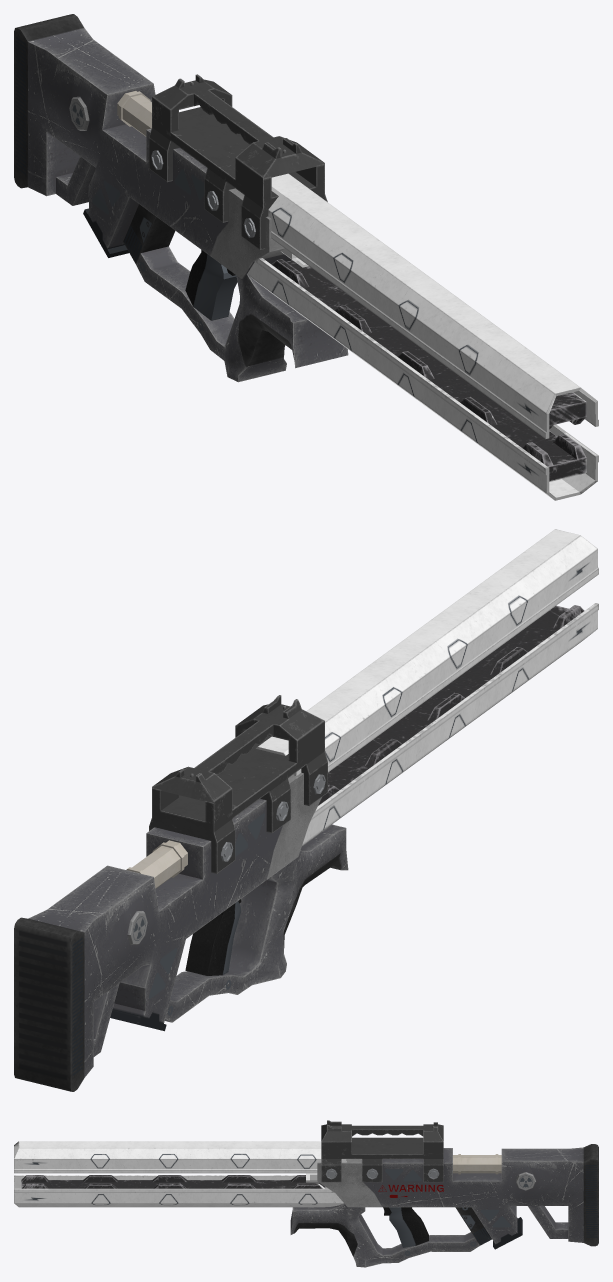
File: 5stageGun.fbx
3 views of the same model, one above another, from view 1: azimuth 30°, elevation 25°; view 2: azimuth 150°, elevation 25°; view 3: azimuth 270°, elevation 25° (orthographic). The views are drawn at different scales.
Visible parts, largest first — view 1: Cube.030, Cube.029, Cube.032, Plane.009, Cylinder.019; view 2: Cube.030, Cube.029, Cube.032, Plane.009, Cylinder.019; view 3: Cube.029, Cube.030, Cube.032, Plane.009, Cylinder.019.
Boxes of the visible parts, x1,y1,x2,y2 form: Cube.030: [14, 14, 348, 382]; Cube.029: [247, 173, 598, 500]; Cube.032: [149, 74, 327, 249]; Plane.009: [185, 250, 237, 320]; Cylinder.019: [117, 91, 151, 136]; Cube.030: [14, 772, 348, 1091]; Cube.029: [256, 529, 598, 845]; Cube.032: [149, 695, 327, 873]; Plane.009: [185, 899, 241, 975]; Cylinder.019: [126, 840, 187, 888]; Cube.029: [14, 1141, 346, 1207]; Cube.030: [290, 1144, 598, 1267]; Cube.032: [321, 1120, 443, 1182]; Plane.009: [383, 1207, 428, 1247]; Cylinder.019: [453, 1154, 501, 1174].
Size of the model in its own units: 8.32 by 27.72 by 107.
1 material, 1 textured.
